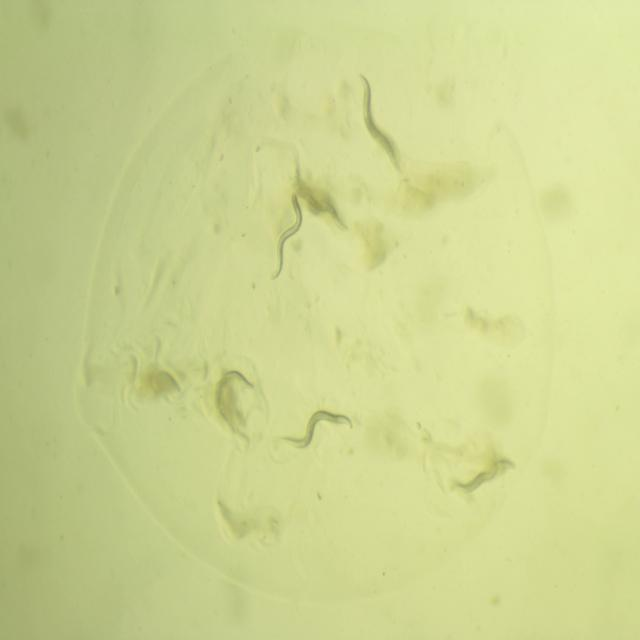worm: (352, 61, 411, 187), (275, 386, 365, 464), (446, 436, 526, 506), (208, 348, 262, 451), (261, 183, 313, 286), (288, 154, 351, 238)
